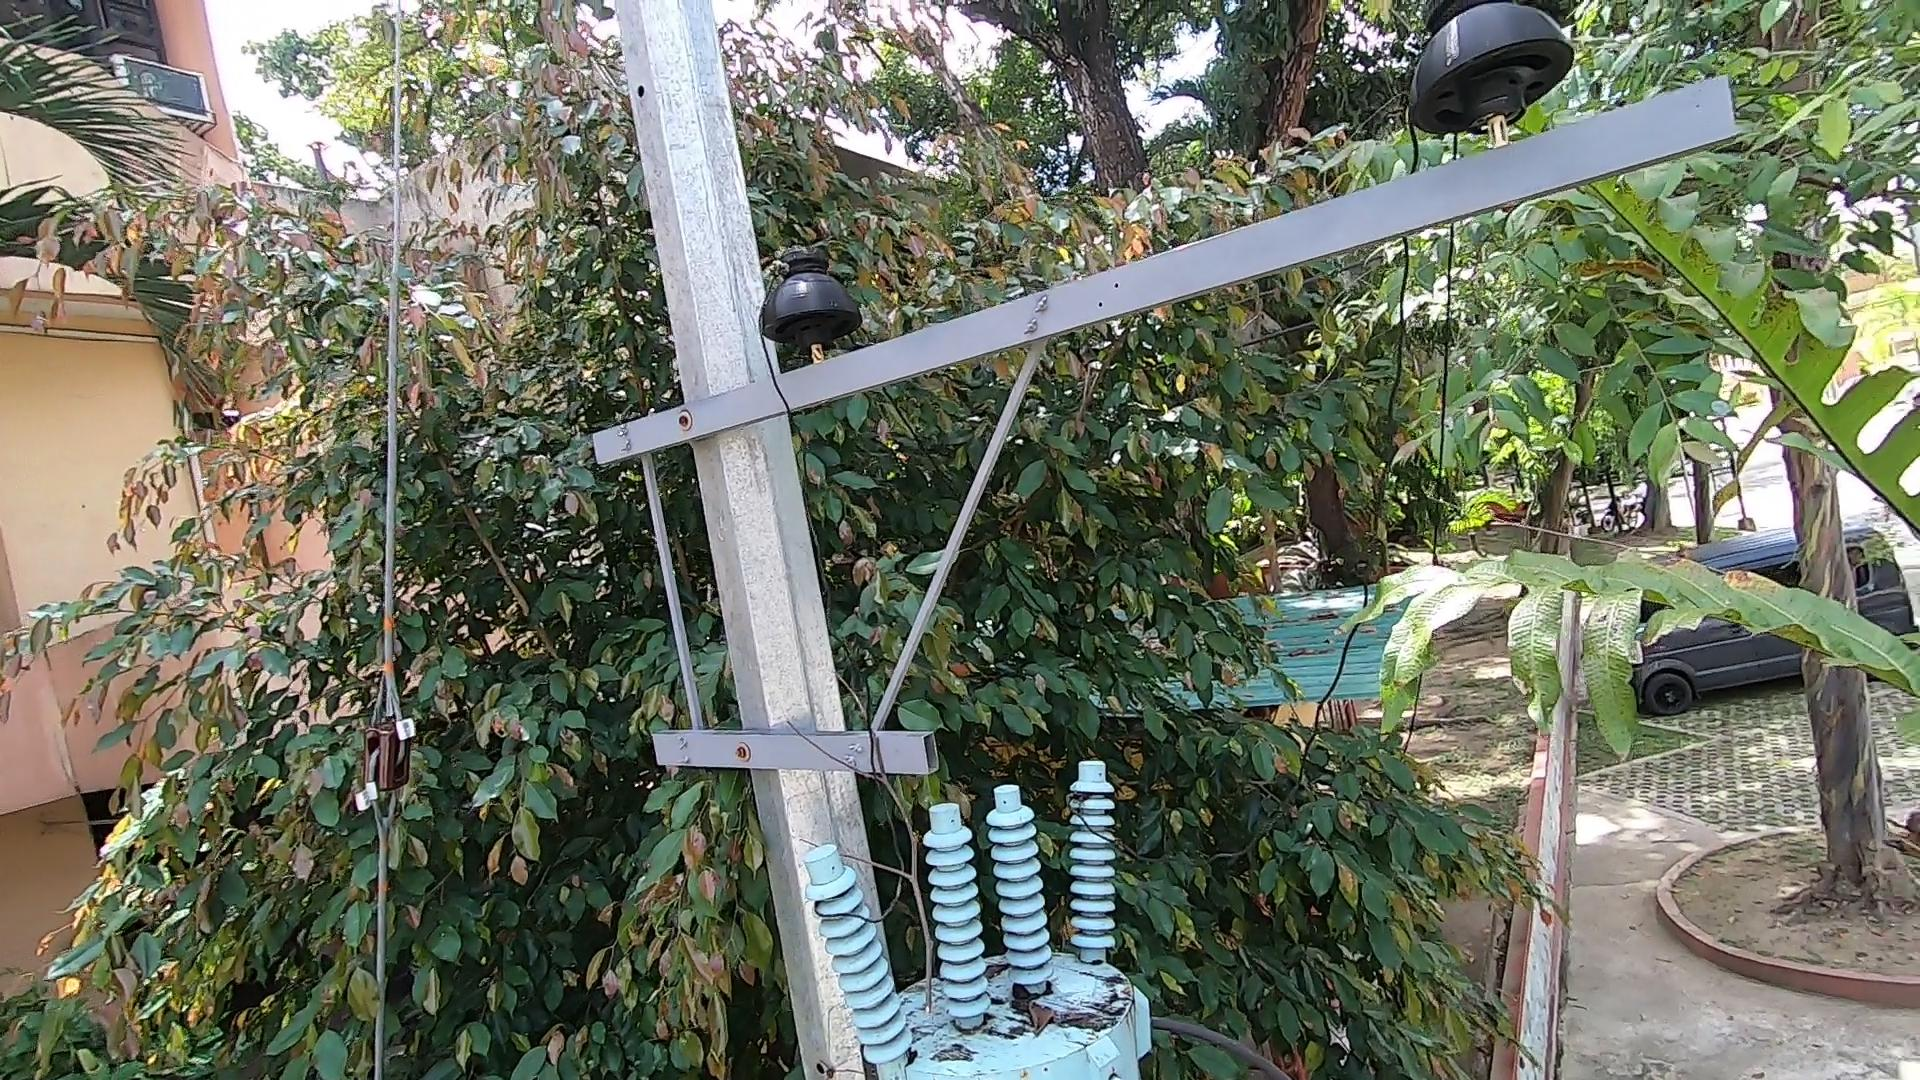leaf: (1029, 998, 1051, 1043), (1010, 977, 1031, 1007)
tree branch: (756, 655, 953, 1015)
